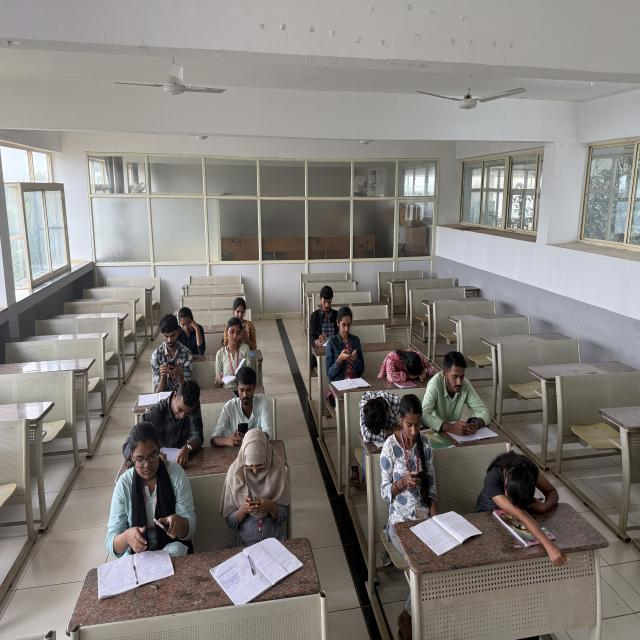Sleeping: (472, 446, 563, 519), (353, 383, 414, 446), (378, 342, 442, 384)
Using Phone: (109, 428, 202, 561), (218, 428, 294, 537), (384, 396, 446, 514), (426, 350, 498, 436), (205, 371, 276, 451), (146, 316, 193, 391), (328, 309, 368, 374)
Writing: (306, 280, 341, 354)
